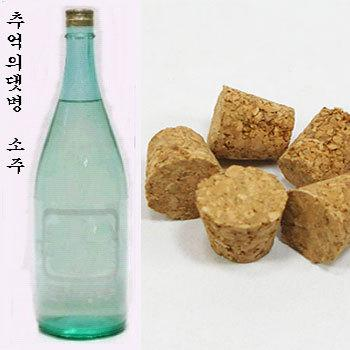soju: (30, 7, 134, 342)
